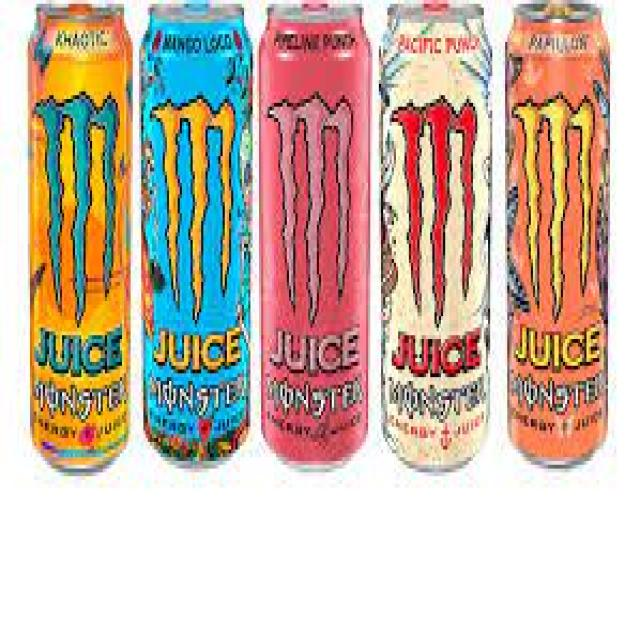Cans: (372, 0, 500, 482), (16, 0, 137, 485), (500, 0, 618, 481), (256, 0, 374, 470), (137, 0, 255, 469)
